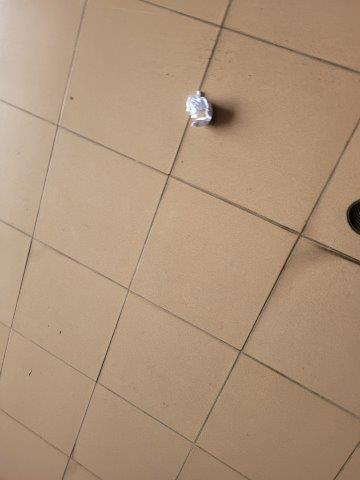kertas: (186, 92, 213, 127)
